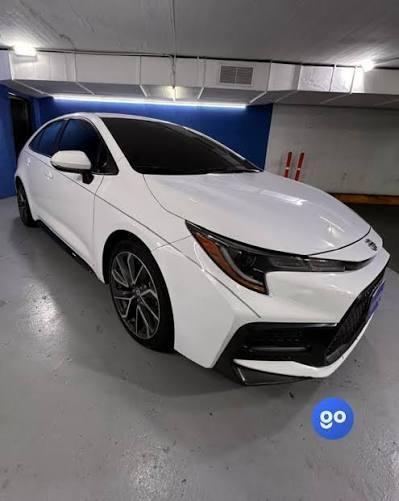car: (10, 118, 385, 374)
